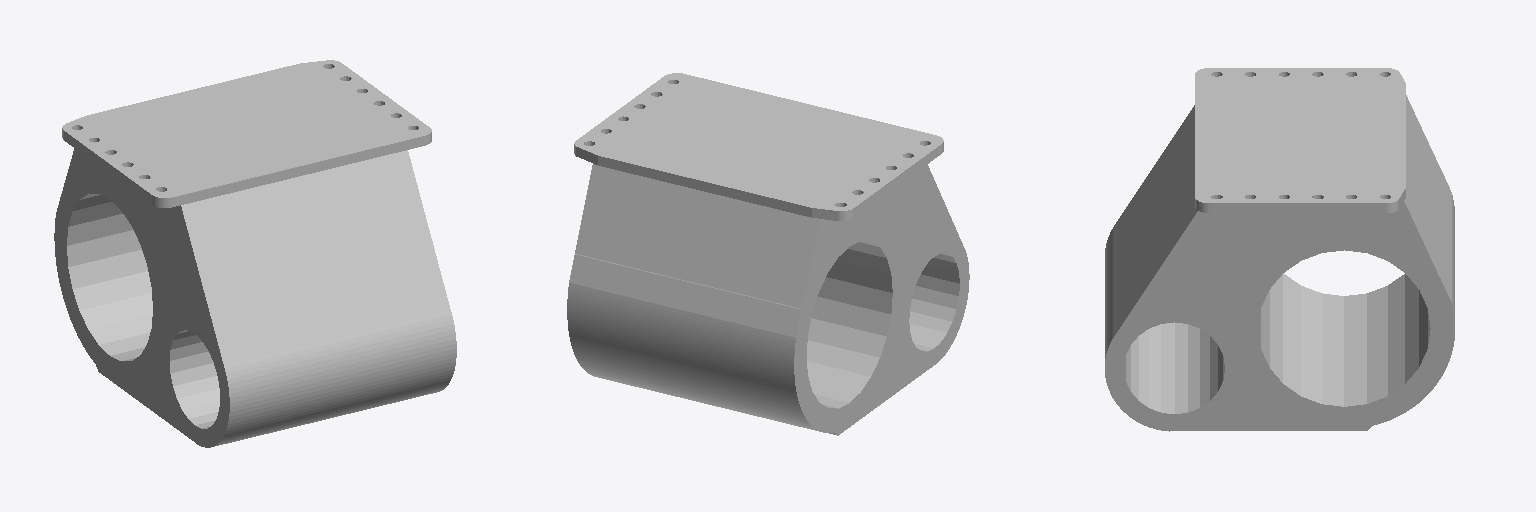
The model's file is 03_Cylinder_parowy_lewy.obj.
3 views of the same model, side by side, from view 1: azimuth 30°, elevation 25°; view 2: azimuth 150°, elevation 25°; view 3: azimuth 270°, elevation 25° (orthographic).
Visible parts, largest first — view 1: obj1, obj3, obj2; view 2: obj1, obj3, obj2; view 3: obj1, obj3, obj2.
Part boxes in pixels (x1,y1,x2,y2): obj1: (54, 60, 456, 447); obj3: (67, 194, 152, 360); obj2: (170, 330, 219, 428); obj1: (567, 73, 969, 435); obj3: (807, 241, 892, 408); obj2: (909, 253, 959, 351); obj1: (1105, 68, 1454, 431); obj3: (1258, 273, 1430, 406); obj2: (1124, 322, 1224, 413).
Bounding box in the file's own units: 46.06 × 38.16 × 50.39.